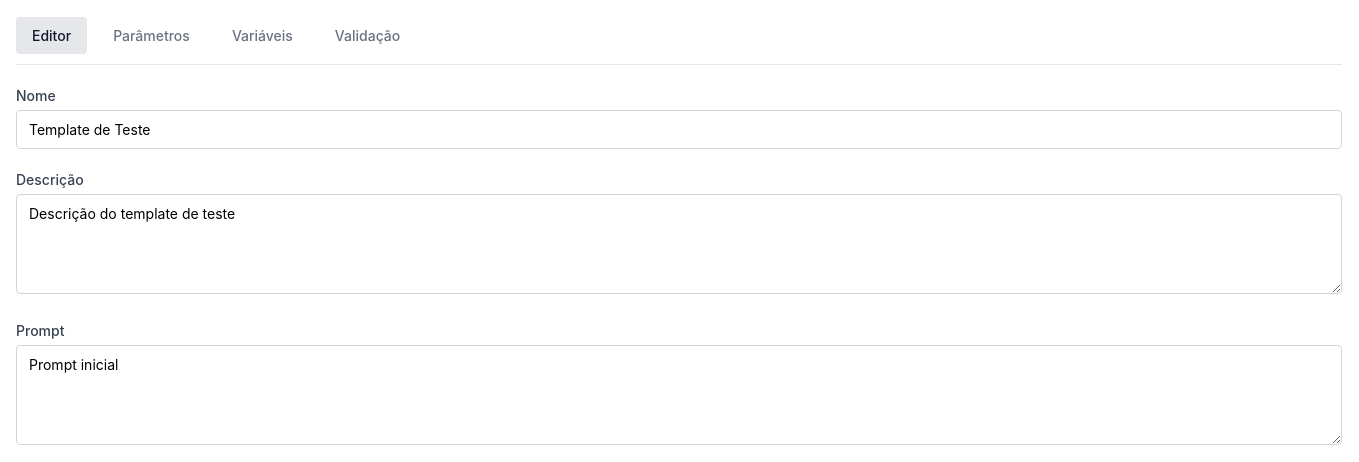
TemplateEditor › deve alternar entre as abas corretamente
Step 1. Click the button "Variáveis" → (262, 36), box [216,17,309,54]
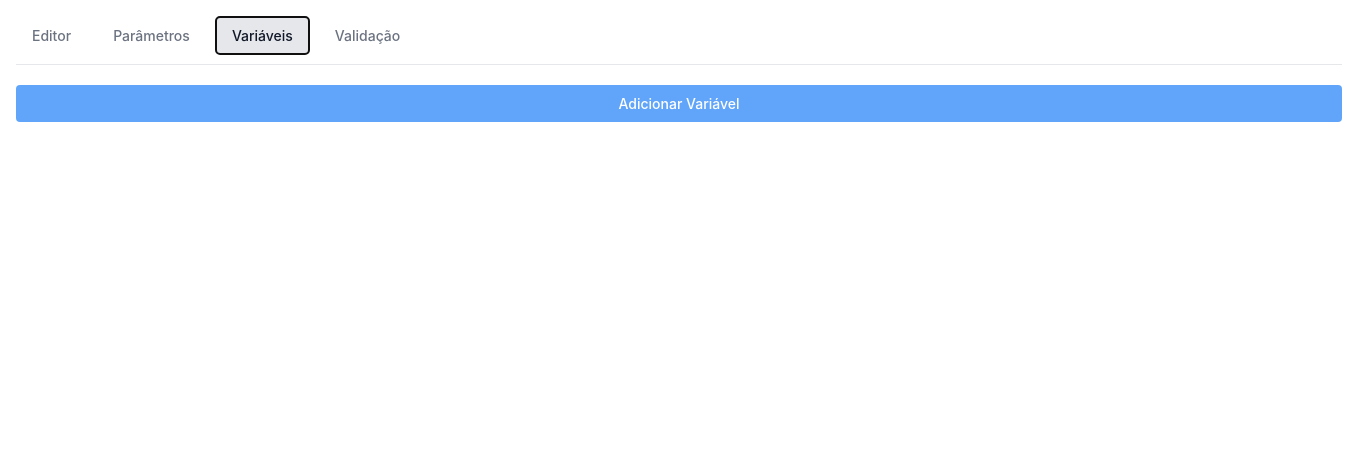
Check: the button "Adicionar Variável" is shown, box [16,85,1342,122]
Step 2. Click the button "Validação" → (368, 36), box [319,17,416,54]
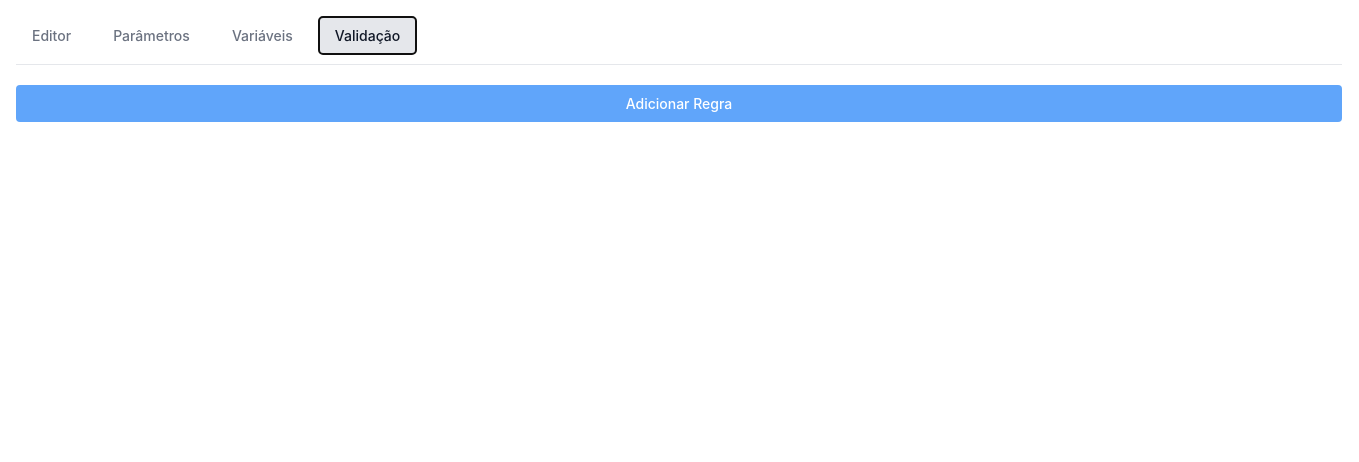
Check: the button "Adicionar Regra" is shown, box [16,85,1342,122]
